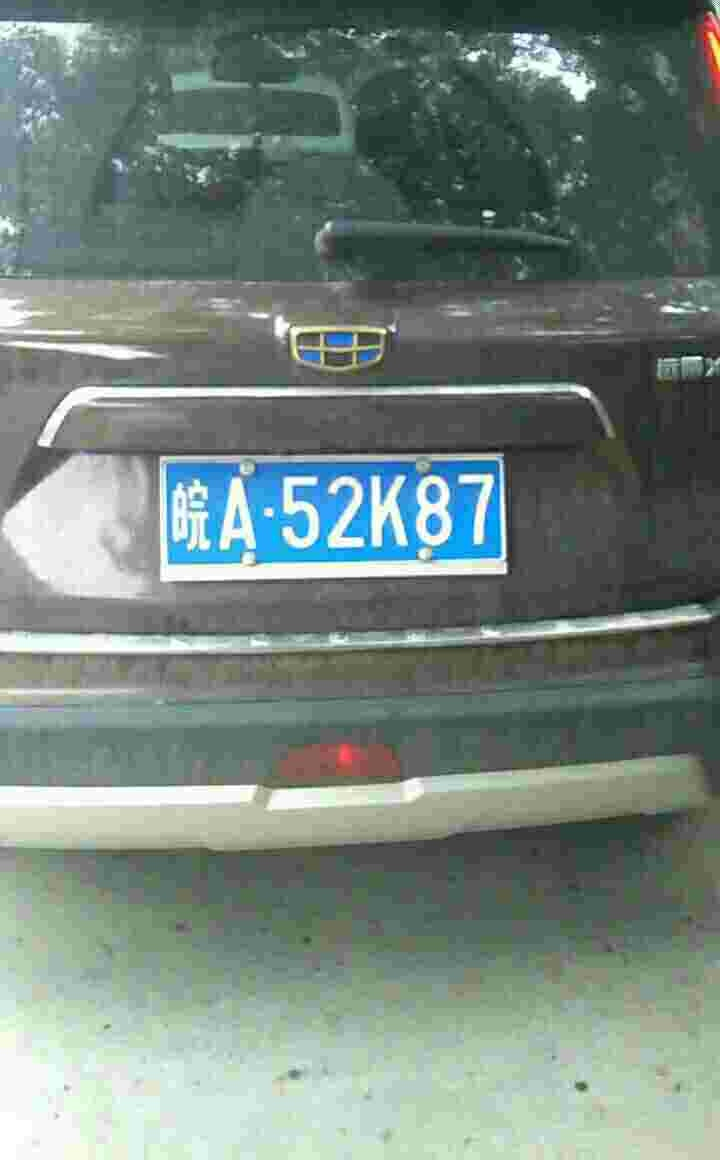license_plate: (157, 464, 515, 565)
